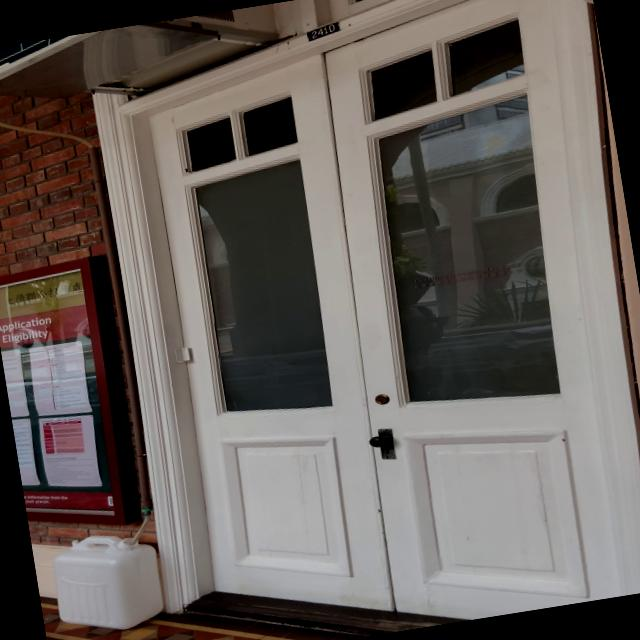room241d: (301, 19, 344, 47)
